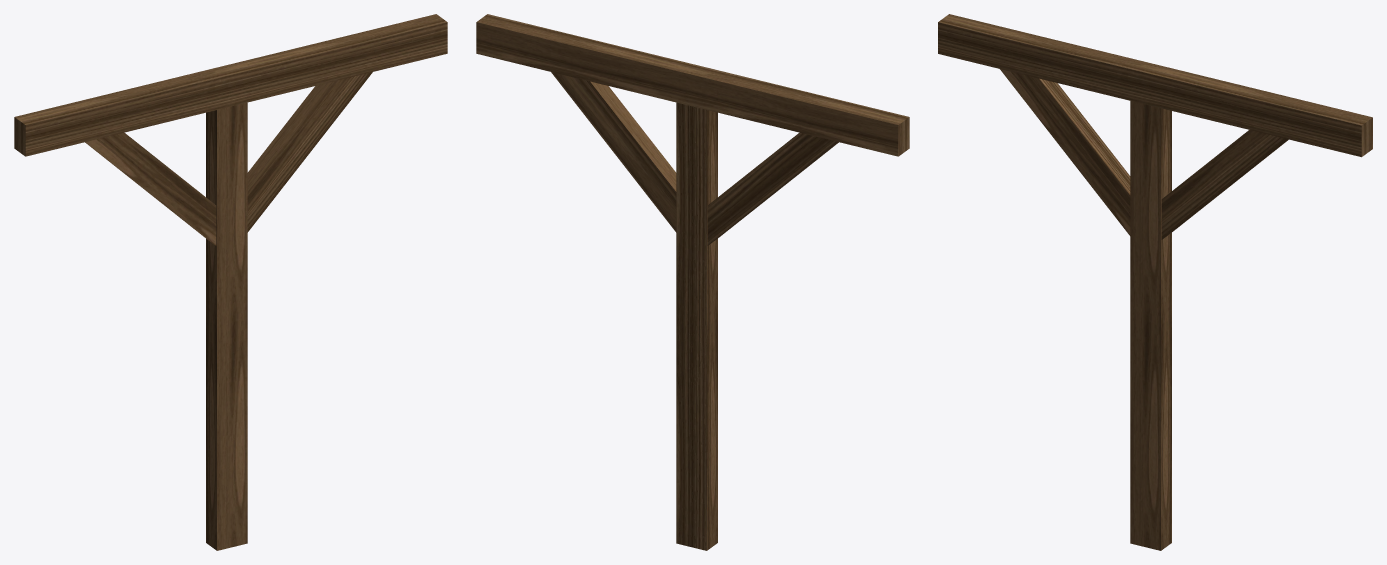
File: Wooden 05.glb
3 views of the same model, side by side, from view 1: azimuth 30°, elevation 25°; view 2: azimuth 150°, elevation 25°; view 3: azimuth 330°, elevation 25° (orthographic).
Visible parts, largest first — view 1: Wooden_05; view 2: Wooden_05; view 3: Wooden_05.
Boxes of the visible parts, x1,y1,x2,y2 form: Wooden_05: (14,14,447,550); Wooden_05: (476,14,909,550); Wooden_05: (938,14,1372,550).
Size of the model in its own units: 1.1 by 1.18 by 0.0504.
Materials: 1 (1 with a texture image).
